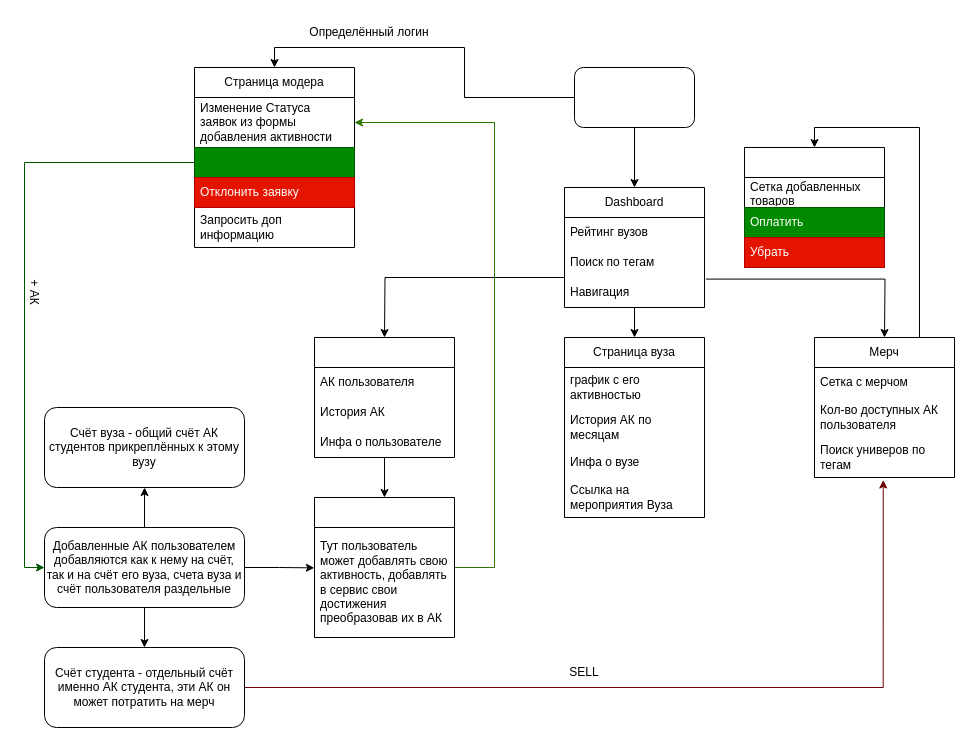
Image size: 972x745. Some labels were removed from this diagram. The box of each missing label's shape, as (x1, y1, x2, y2) in pixels:
Корзина товаров: (744, 146, 884, 268)
Личный кабинет: (314, 336, 454, 458)
Принять заявку: (194, 146, 354, 178)
Страница регистрации: (574, 66, 694, 128)
Форма (добавления активности): (314, 496, 454, 638)
